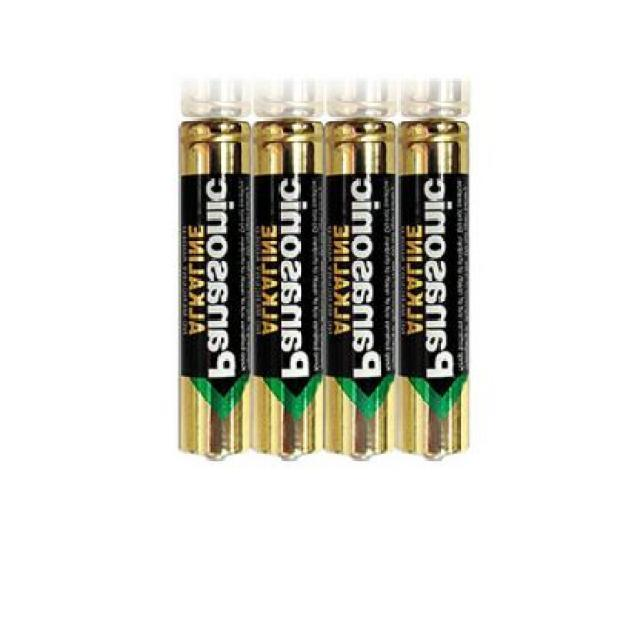AAA: (174, 116, 252, 462), (249, 110, 325, 464), (323, 114, 400, 463), (398, 110, 471, 463)
